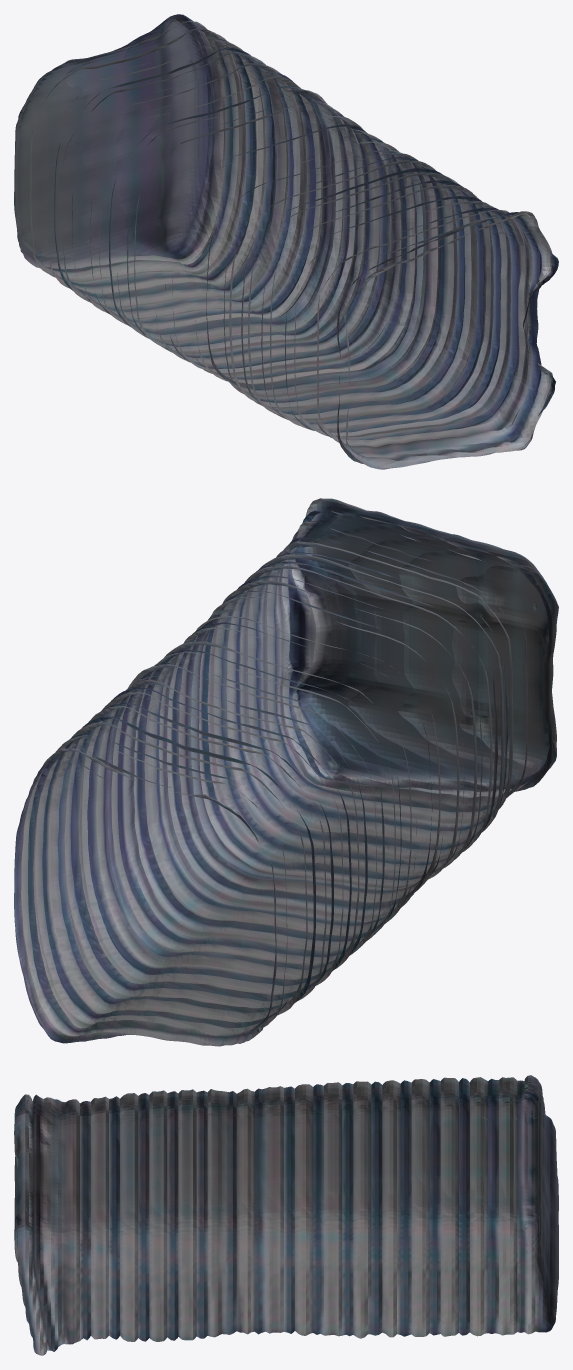
Rendered from triposr_raw__T1_straight_sleeveless.glb.
3 renders of one model, top to bottom at view 1: azimuth 30°, elevation 25°; view 2: azimuth 150°, elevation 25°; view 3: azimuth 270°, elevation 25°, orthographic. The views are drawn at different scales.
Parts seen in each view (by area): view 1: geometry_0; view 2: geometry_0; view 3: geometry_0.
Boxes of the visible parts, bbox=[...] form: geometry_0: bbox=[14, 14, 558, 469]; geometry_0: bbox=[14, 498, 558, 1046]; geometry_0: bbox=[14, 1075, 558, 1355].
Size of the model in its own units: 0.5041 by 0.4462 by 1.02.
